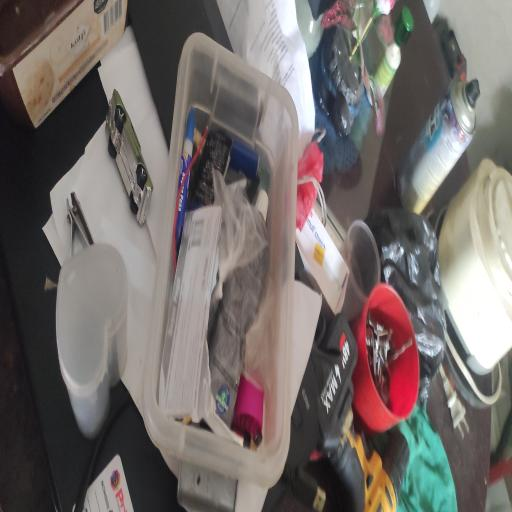Carrito: (106, 89, 153, 225)
